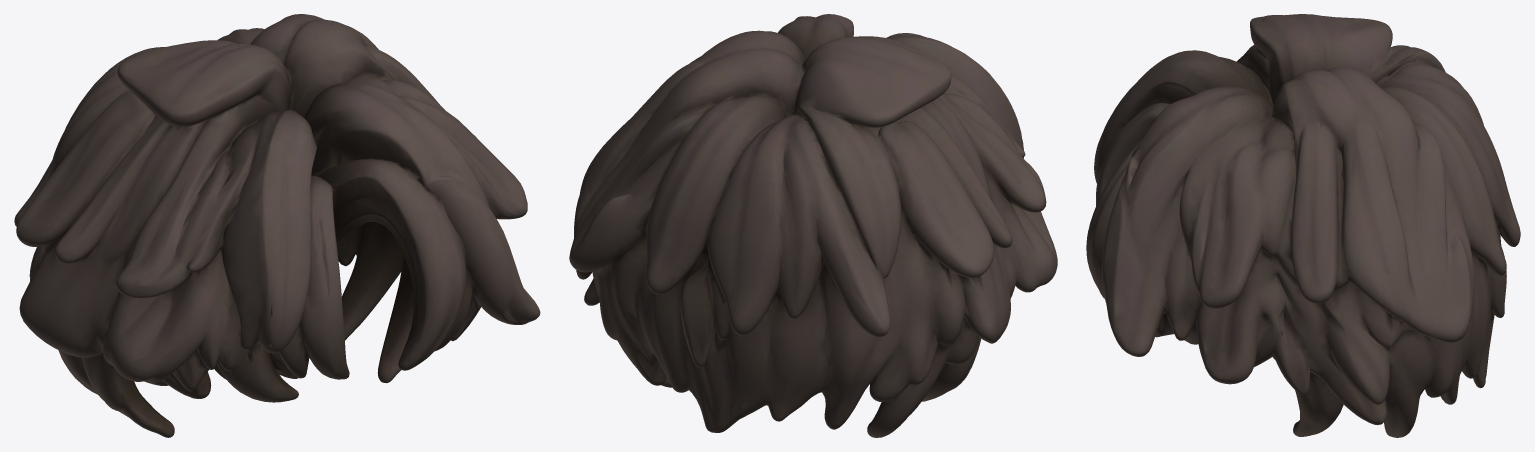
Rendered from hair_m02.glb.
The picture shows the model from 3 angles, left to right: view 1: azimuth 30°, elevation 25°; view 2: azimuth 150°, elevation 25°; view 3: azimuth 270°, elevation 25°; orthographic projection. The views are drawn at different scales.
Parts seen in each view (by area): view 1: hair; view 2: hair; view 3: hair.
Boxes of the visible parts, <box> form: hair: <box>14,14,540,437</box>; hair: <box>569,14,1057,437</box>; hair: <box>1086,14,1520,437</box>.
Bounding box in the file's own units: 3 × 2.39 × 2.75.
Materials: 1 (1 with a texture image).
